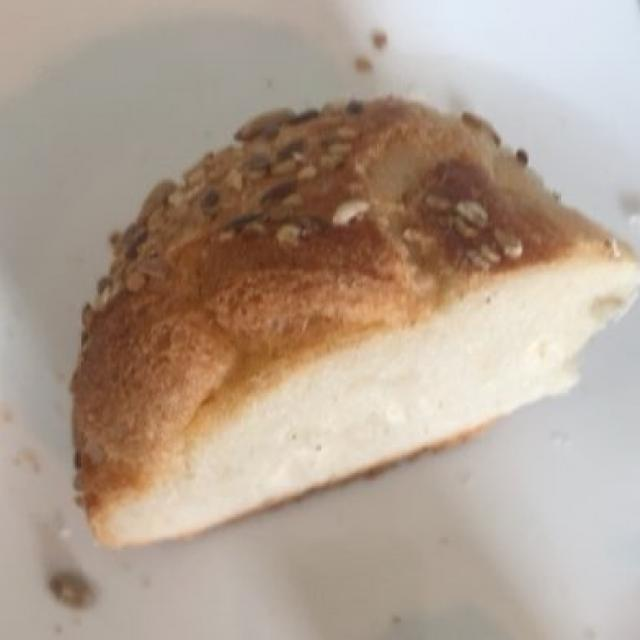bread: (74, 101, 628, 544)
